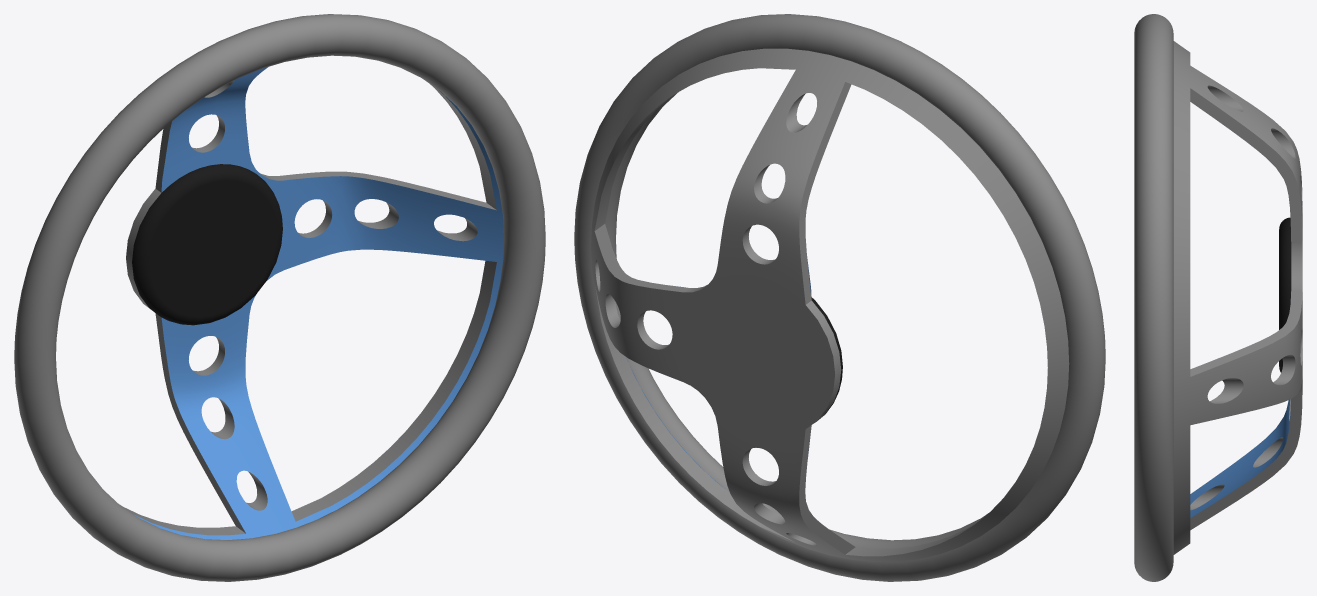
File: uploads_files_2701687_rul+v3.fbx
3 views of the same model, side by side, from view 1: azimuth 30°, elevation 25°; view 2: azimuth 150°, elevation 25°; view 3: azimuth 270°, elevation 25° (orthographic). The views are drawn at different scales.
Parts seen in each view (by area): view 1: Body1; view 2: Body1; view 3: Body1.
Part boxes in pixels (<box>): Body1: <box>14,14,545,581</box>; Body1: <box>574,14,1105,581</box>; Body1: <box>1134,14,1302,581</box>.
Size of the model in its own units: 46.96 by 46.96 by 13.9.
